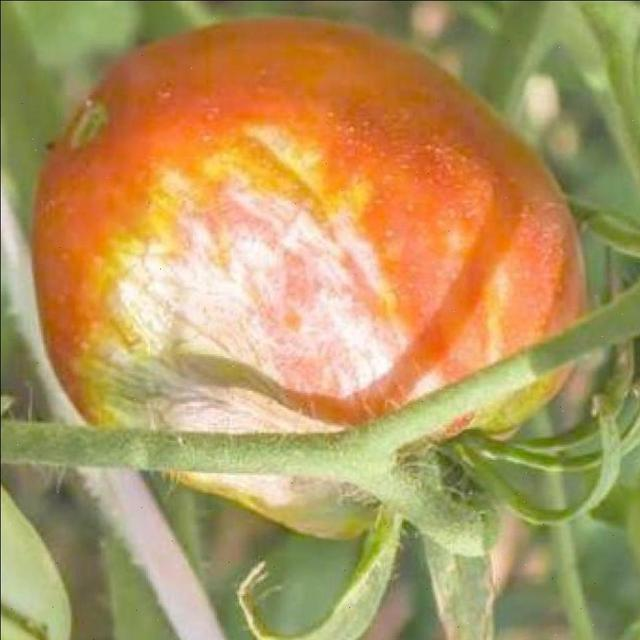Sunscald Fruit: (56, 102, 298, 326)
